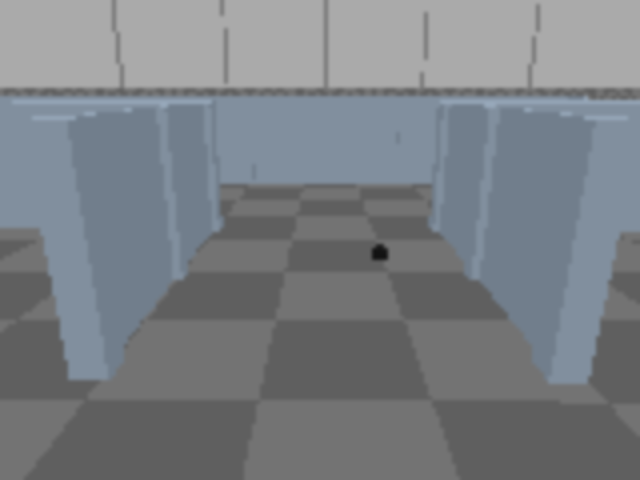puck: (370, 242, 389, 265)
